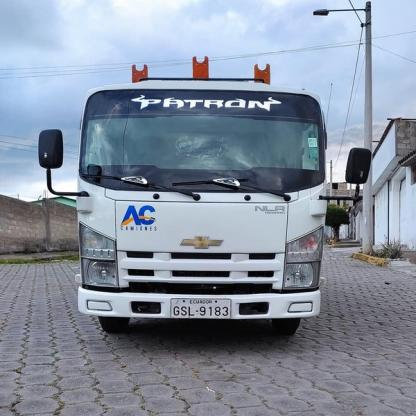Placa: (170, 295, 233, 324)
